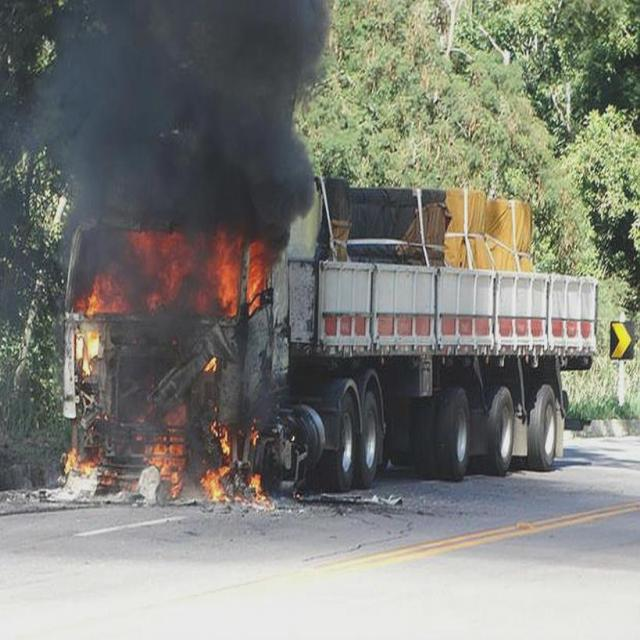Fire: (69, 226, 265, 320), (137, 404, 185, 496), (53, 441, 106, 477), (196, 466, 228, 504), (248, 471, 268, 506), (211, 423, 231, 458)
